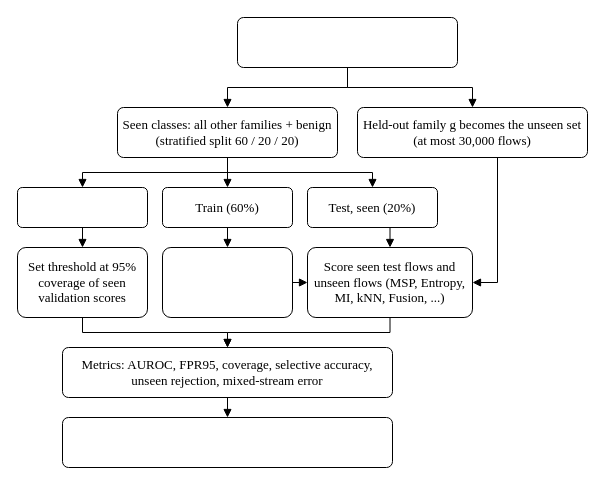
This 605x485 diagram has some shape labels left out. The box of each missing label's shape, as (x1, y1, x2, y2) in pixels:
Fit classifier, feature transform and score models (train only): (162, 246, 292, 318)
Labelled flows (benign + K attack families): (236, 16, 458, 68)
Repeat for every held-out family g and seeds 0-4; paired Wilcoxon tests on AUROC: (62, 416, 392, 468)
Validation (20%): (16, 186, 148, 228)
